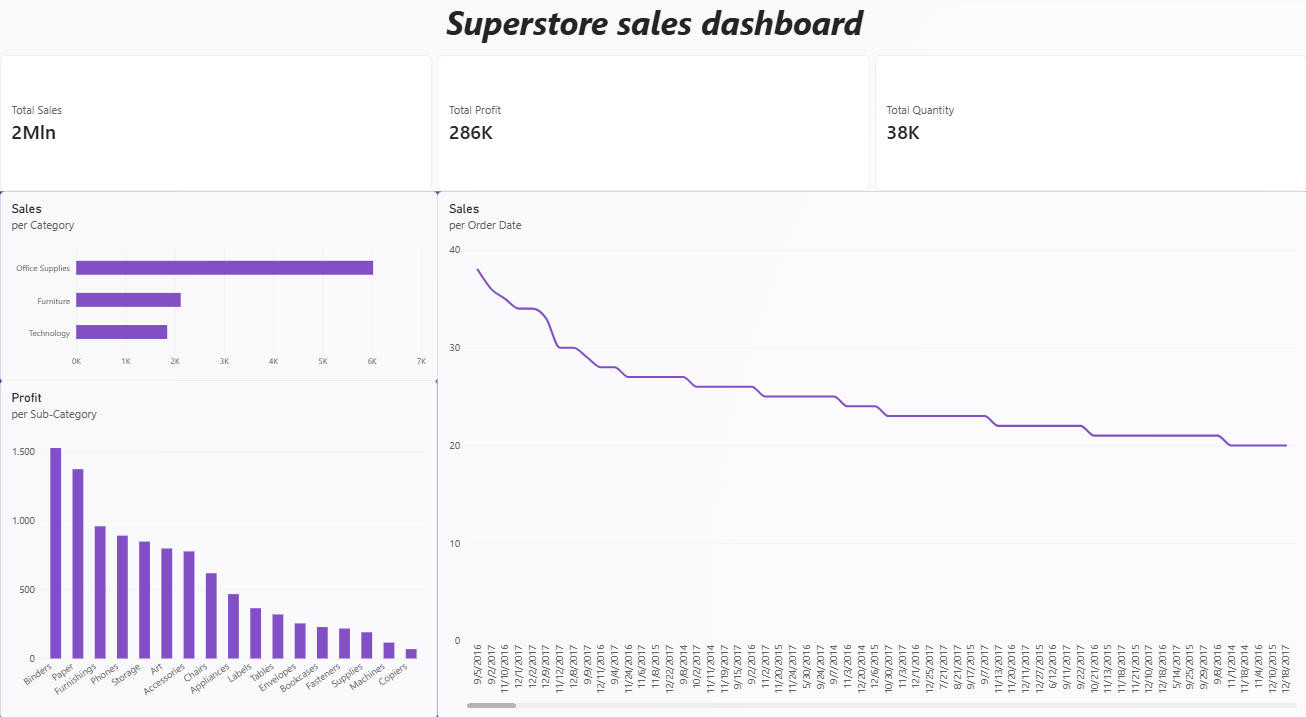

What the dashboard file says about the page in this screenshot:
{"tool":"powerbi","page":{"name":"Pagina 1","canvas":[1920,1080],"ordinal":0},"visuals":[{"type":"cardVisual","fields":{"Data":["Sum(Sample - Superstore.Sales)","Sum(Sample - Superstore.Profit)","Sum(Sample - Superstore.Quantity)"]},"box":[0,80.7,1920.5,199.9],"z":0},{"type":"clusteredBarChart","fields":{"Category":["Sample - Superstore.Category"],"Y":["CountNonNull(Sample - Superstore.Sales)"]},"box":[0,279.9,642.2,279.9],"z":1000},{"type":"lineChart","fields":{"Category":["Sample - Superstore.Order Date"],"Y":["CountNonNull(Sample - Superstore.Sales)"]},"box":[642,280.6,1278.5,775.9],"z":2000},{"type":"clusteredColumnChart","fields":{"Category":["Sample - Superstore.Sub-Category"],"Y":["CountNonNull(Sample - Superstore.Profit)"]},"box":[0,557.6,642,498.9],"z":3000},{"type":"textbox","box":[0,0,1920.5,80.7],"z":3001}]}

Visuals, with their boxes in screenshot pixels (x1, y1, x2, y2), scaled from the page's 1920x1080 canvas onto the 1306x717 screenshot:
cardVisual - Sum(Sample - Superstore.Sales) x Sum(Sample - Superstore.Profit): 0:54:1305:186
clusteredBarChart - Sample - Superstore.Category x CountNonNull(Sample - Superstore.Sales): 0:186:437:372
lineChart - Sample - Superstore.Order Date x CountNonNull(Sample - Superstore.Sales): 437:186:1305:701
clusteredColumnChart - Sample - Superstore.Sub-Category x CountNonNull(Sample - Superstore.Profit): 0:370:437:701
textbox: 0:0:1305:54
